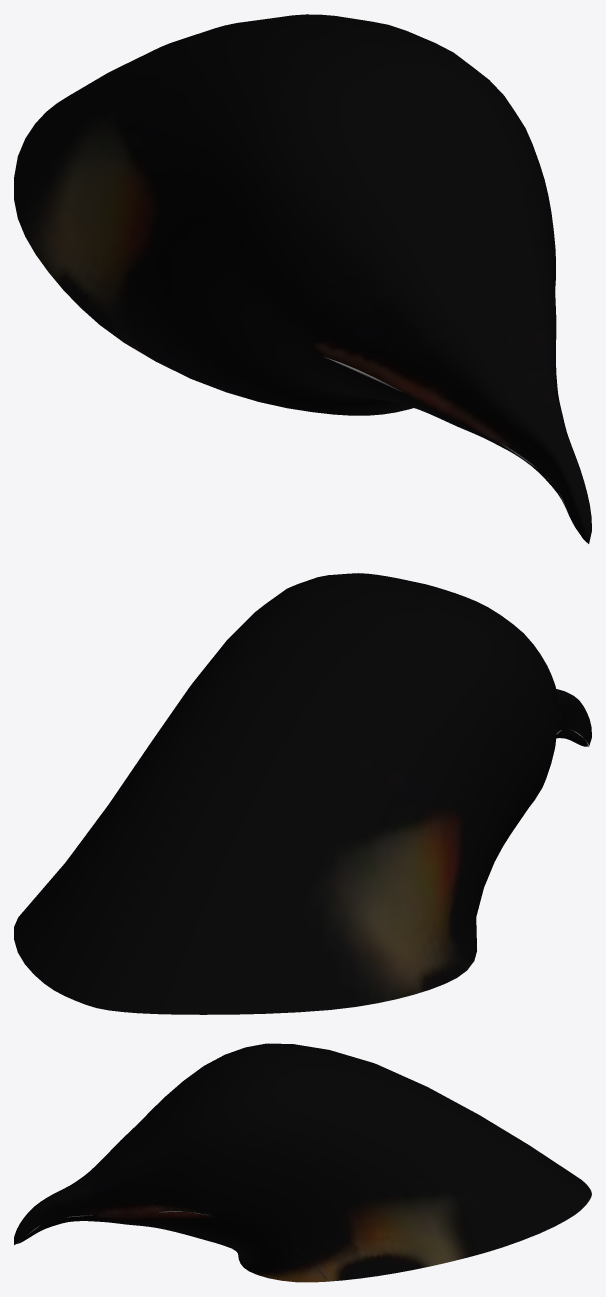
The model's file is CabezaPinguino.obj.
3 renders of one model, top to bottom at view 1: azimuth 30°, elevation 25°; view 2: azimuth 150°, elevation 25°; view 3: azimuth 270°, elevation 25°, orthographic. The views are drawn at different scales.
Parts seen in each view (by area): view 1: Cabeza; view 2: Cabeza; view 3: Cabeza.
Boxes of the visible parts, x1=… form: Cabeza: x1=14, y1=14, x2=591, y2=543; Cabeza: x1=14, y1=573, x2=591, y2=1014; Cabeza: x1=14, y1=1043, x2=591, y2=1282.
Size of the model in its own units: 2.19 by 1.87 by 5.
